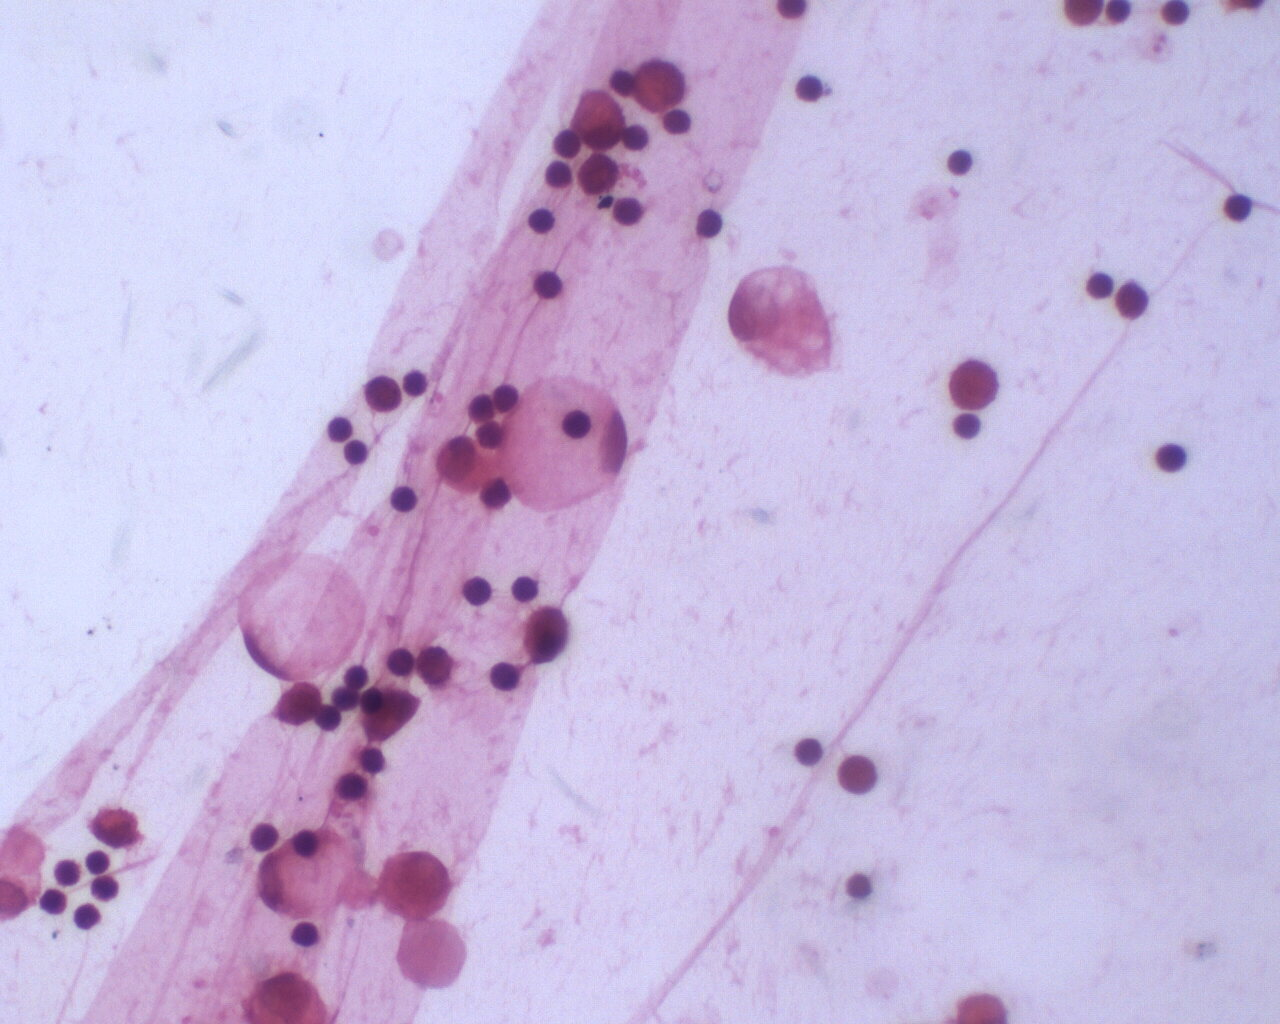ab: (515, 605, 579, 672), (946, 356, 1003, 415)
histo: (503, 371, 631, 526), (236, 550, 373, 681)
lymph: (789, 64, 830, 108), (552, 404, 596, 445), (456, 568, 494, 612), (942, 143, 985, 182), (385, 481, 424, 521), (1218, 190, 1261, 228), (318, 408, 358, 446), (1153, 441, 1194, 478), (523, 202, 563, 237), (693, 205, 729, 241), (48, 855, 82, 889), (1083, 267, 1116, 302), (535, 266, 571, 299), (487, 659, 523, 691), (385, 645, 416, 678), (659, 107, 694, 136), (292, 918, 321, 950)
meso: (378, 847, 455, 920), (571, 87, 629, 153)
